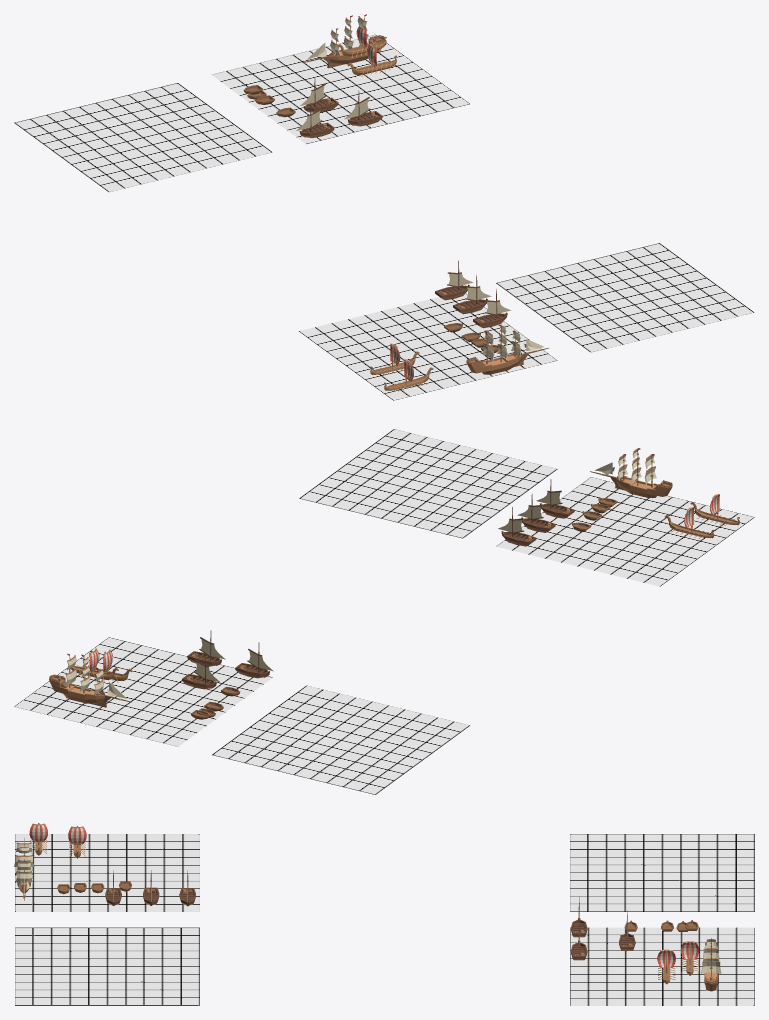
File: arragementNormalize.gltf
The picture shows the model from 3 angles, top to bottom: view 1: azimuth 30°, elevation 25°; view 2: azimuth 150°, elevation 25°; view 3: azimuth 270°, elevation 25°; orthographic projection. The views are drawn at different scales.
Parts seen in each view (by area): view 1: Plane.001, Plane004, Plane003, Plane.002, FourDeck001, FourDeck; view 2: Plane.001, Plane004, Plane003, Plane.002, FourDeck, FourDeck001, twoDeck3, twoDeck3001, twoDeck30011, twoDeck30013, twoDeck30021, twoDeck3002; view 3: Plane004, Plane.001, Plane.002, Plane003, FourDeck, FourDeck001, threeDeck, threeDeck1, threeDeck001, threeDeck1001.
Part boxes in pixels (x1=…): Plane.001: x1=14, y1=83, x2=272, y2=191; Plane004: x1=496, y1=243, x2=754, y2=352; Plane003: x1=299, y1=293, x2=557, y2=400; Plane.002: x1=211, y1=34, x2=469, y2=143; FourDeck001: x1=466, y1=324, x2=548, y2=374; FourDeck: x1=302, y1=14, x2=384, y2=68; Plane.001: x1=211, y1=685, x2=469, y2=794; Plane004: x1=299, y1=429, x2=557, y2=538; Plane003: x1=496, y1=477, x2=754, y2=586; Plane.002: x1=14, y1=637, x2=272, y2=746; FourDeck: x1=49, y1=653, x2=131, y2=707; FourDeck001: x1=590, y1=448, x2=672, y2=498; twoDeck3: x1=235, y1=642, x2=273, y2=678; twoDeck3001: x1=182, y1=653, x2=220, y2=689; twoDeck30011: x1=536, y1=479, x2=574, y2=518; twoDeck30013: x1=517, y1=493, x2=555, y2=532; twoDeck30021: x1=498, y1=507, x2=536, y2=546; twoDeck3002: x1=187, y1=630, x2=225, y2=666; Plane004: x1=15, y1=927, x2=199, y2=1005; Plane.001: x1=570, y1=834, x2=754, y2=911; Plane.002: x1=570, y1=927, x2=754, y2=1005; Plane003: x1=15, y1=834, x2=199, y2=911; FourDeck: x1=701, y1=938, x2=721, y2=991; FourDeck001: x1=14, y1=838, x2=34, y2=900; threeDeck: x1=681, y1=941, x2=699, y2=975; threeDeck1: x1=657, y1=949, x2=675, y2=984; threeDeck001: x1=68, y1=826, x2=86, y2=858; threeDeck1001: x1=29, y1=823, x2=47, y2=855.
Size of the model in its own units: 22 by 2.88 by 40.06.
72 materials, 2 textured.
